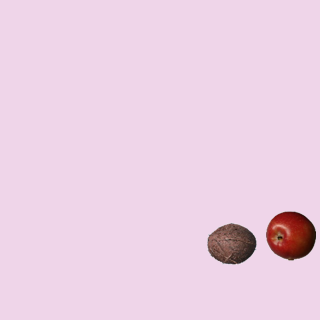Apple Braeburn: (265, 210, 315, 260)
Cocos: (206, 218, 256, 268)
